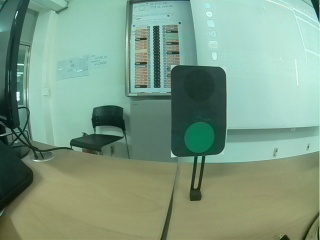green_light: (174, 67, 230, 157)
